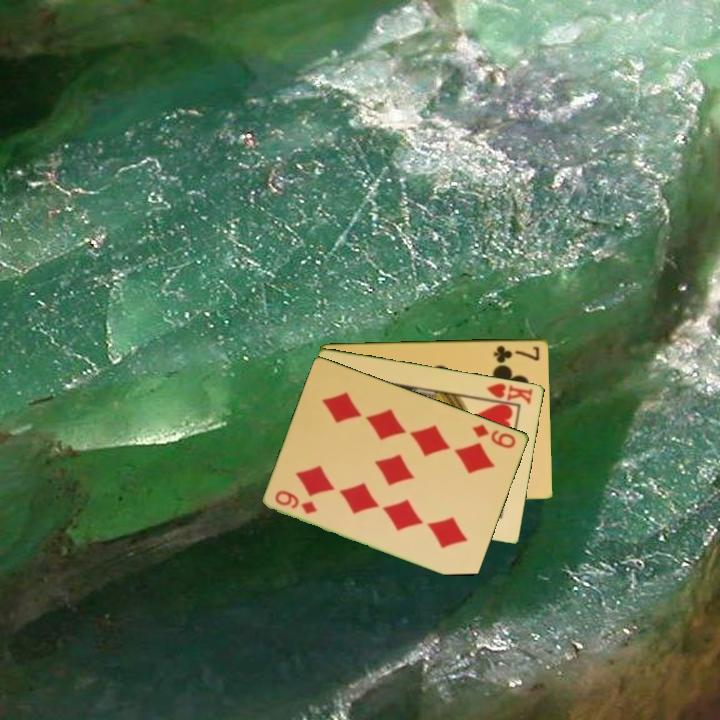7c: (490, 342, 543, 364)
9d: (469, 420, 519, 451), (272, 487, 320, 517)
Kh: (479, 379, 536, 407)
